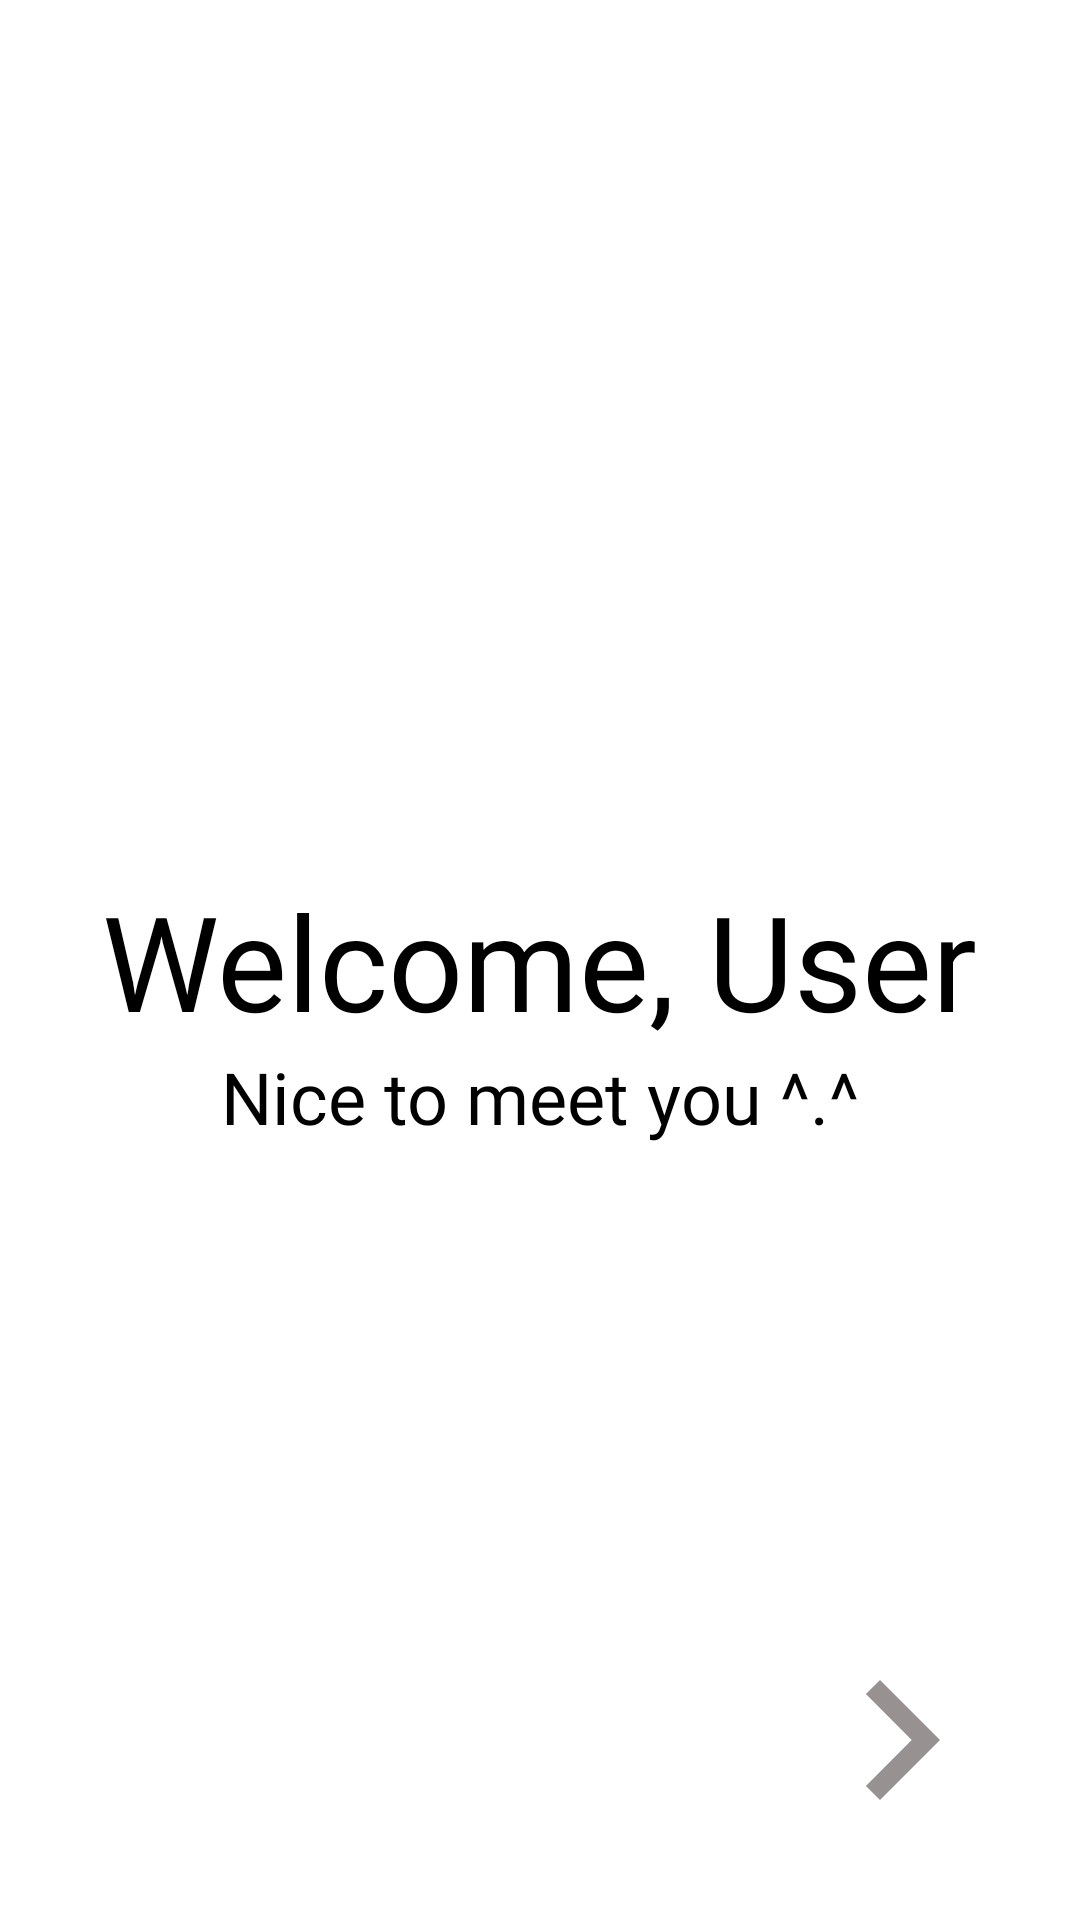

Named icons in this screenshot (1080×1920) and their bounding boxes, (x1, y1, x2, y2):
next: (866, 1680, 940, 1800)
